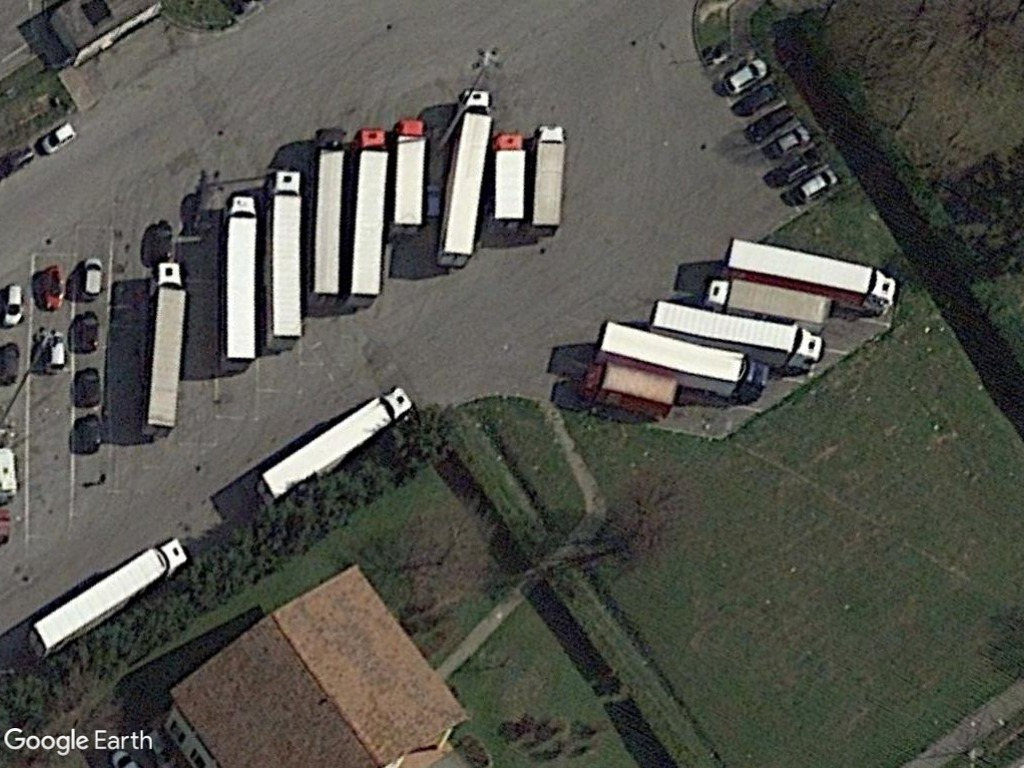car: (720, 57, 775, 99), (790, 165, 845, 204), (766, 124, 816, 161), (37, 114, 78, 159), (77, 250, 107, 304), (40, 259, 68, 316), (0, 277, 28, 330), (43, 327, 68, 380)
longvehicle: (27, 527, 193, 662), (254, 377, 422, 509), (588, 315, 774, 407), (720, 232, 909, 318), (643, 295, 827, 377), (432, 85, 497, 270), (138, 255, 193, 438), (261, 160, 311, 355), (342, 121, 394, 303), (304, 120, 353, 304), (217, 187, 263, 368), (701, 271, 836, 332), (573, 358, 688, 420), (526, 115, 572, 238), (387, 113, 428, 240), (490, 128, 531, 229)
other: (72, 364, 105, 413), (72, 305, 102, 357), (72, 409, 103, 455)
